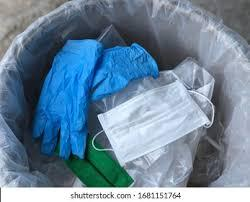Glove: (33, 40, 102, 158), (91, 43, 158, 100)
Mask: (98, 79, 209, 165)
